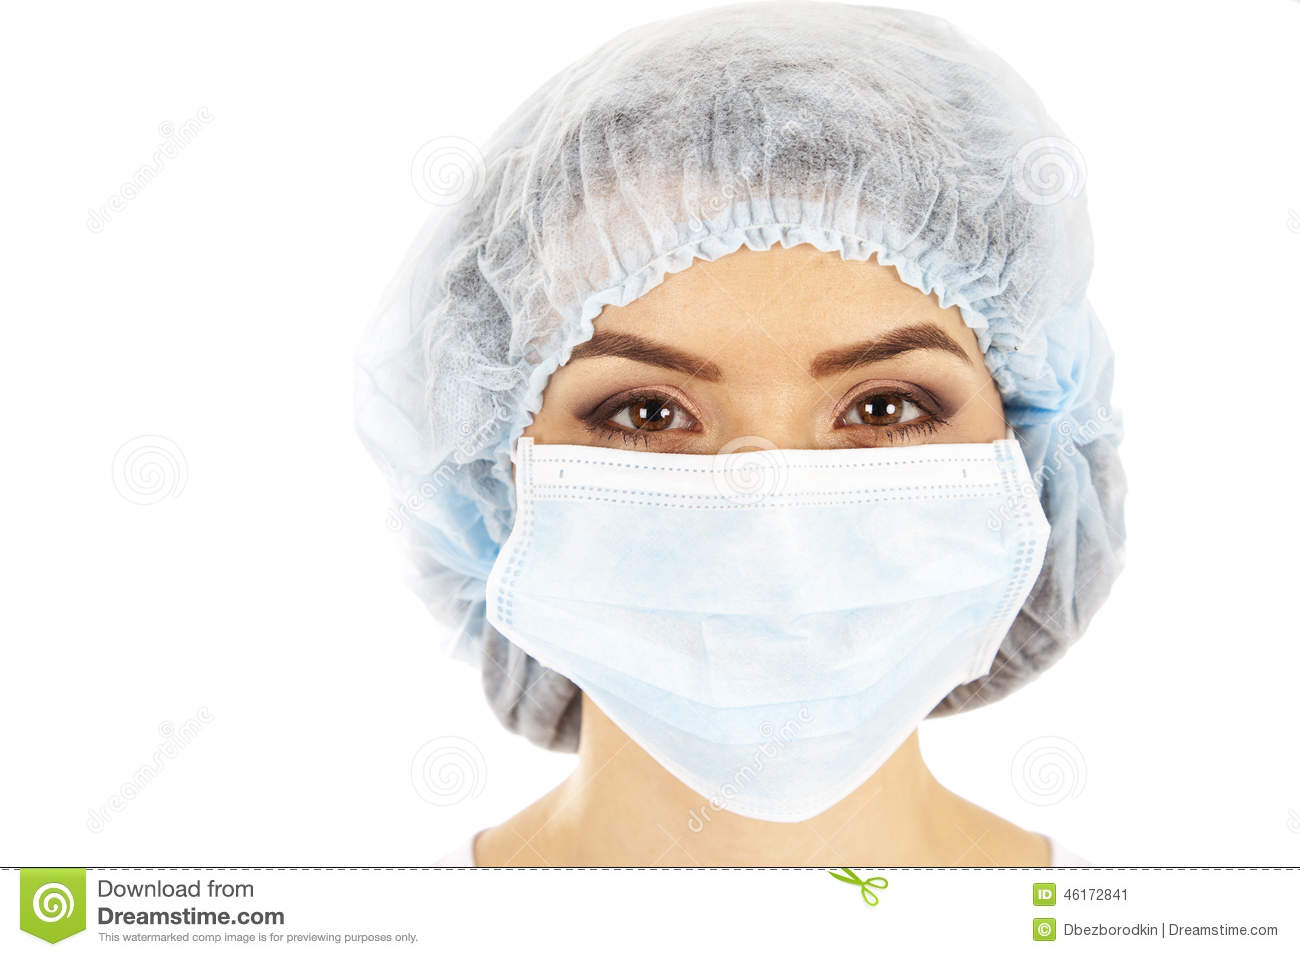mask: (483, 441, 1053, 799)
